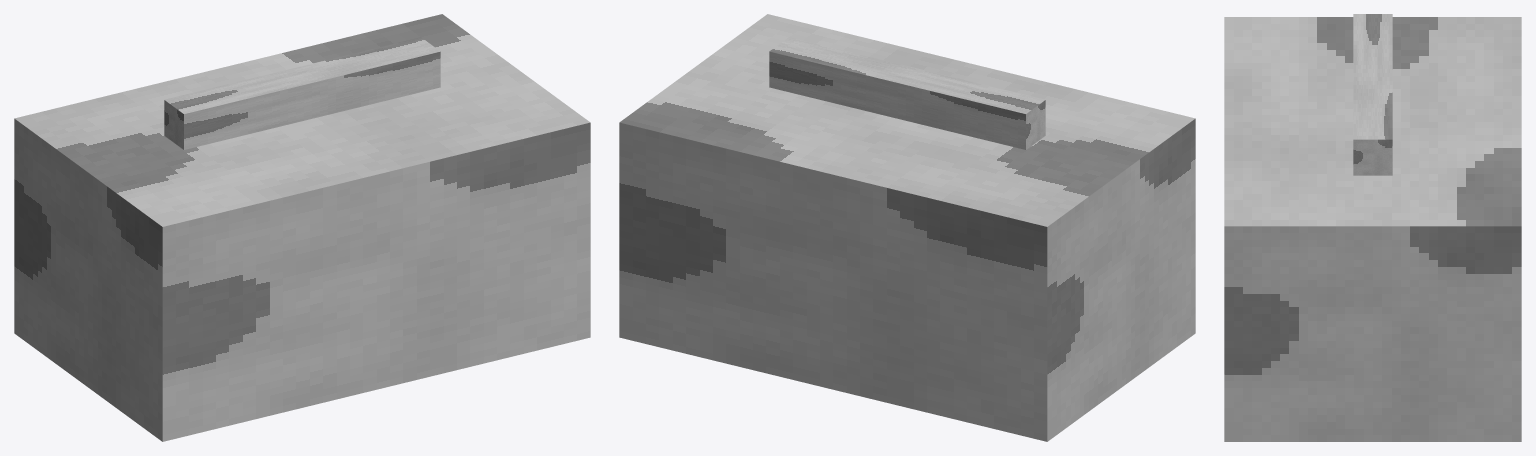
The model's file is toolbox.obj.
The picture shows the model from 3 angles, left to right: view 1: azimuth 30°, elevation 25°; view 2: azimuth 150°, elevation 25°; view 3: azimuth 270°, elevation 25°; orthographic projection.
Parts seen in each view (by area): view 1: part0, part1; view 2: part0, part1; view 3: part0, part1.
Boxes of the visible parts, x1,y1,x2,y2 form: part0: (14,14,590,441); part1: (164,37,440,149); part0: (619,14,1195,441); part1: (769,37,1045,149); part0: (1224,17,1521,441); part1: (1353,14,1392,175).
Bounding box in the file's own units: 0.5 × 0.29 × 0.3.
2 materials, 2 textured.
